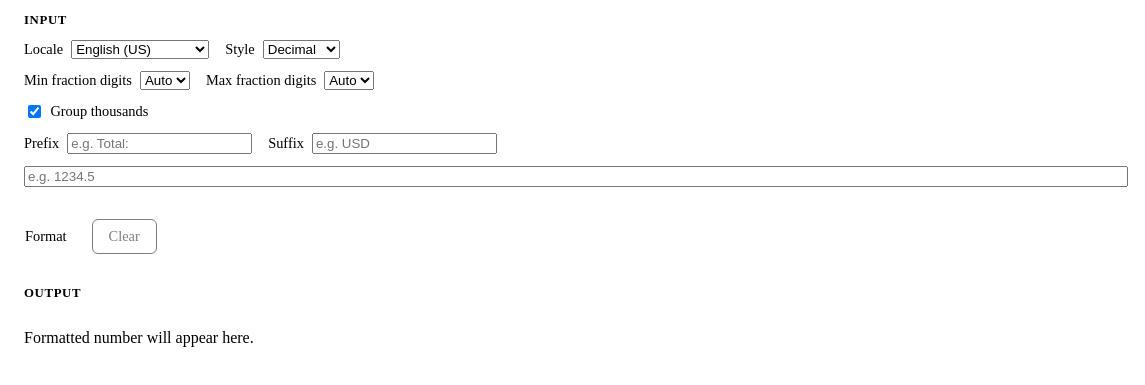
Scenario: NumberFormatterTool › formats a number with the default options
Type "1234.5" into the field named "Number input" at (576, 176), box [24,166,1128,187]
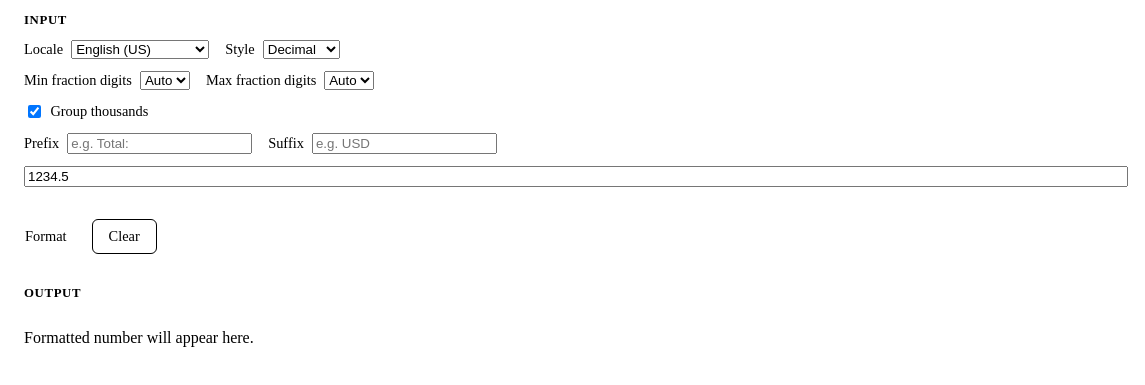
Click the button "Format" at (46, 236), box [8,219,84,254]
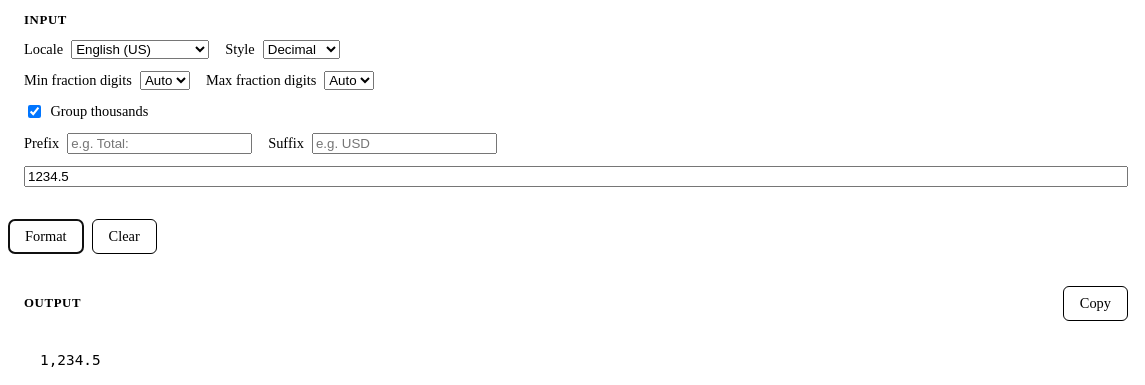
Result: the text with test id "number-output" reads "1,234.5" at [40,352,101,368]
Result: the button "Copy" is enabled at [1063,286,1128,321]
